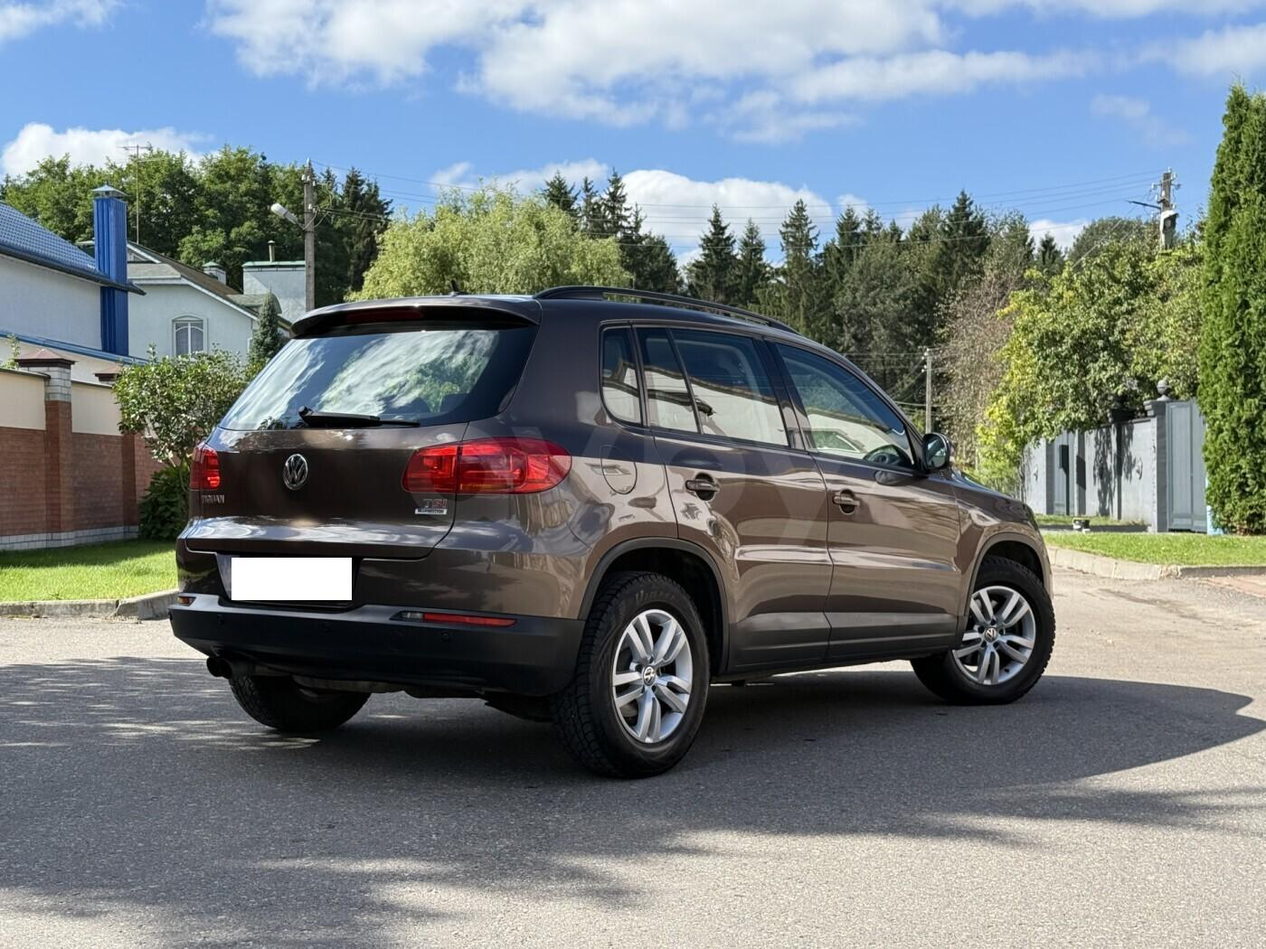Tiguan_2011-2018: (172, 288, 1055, 776)
